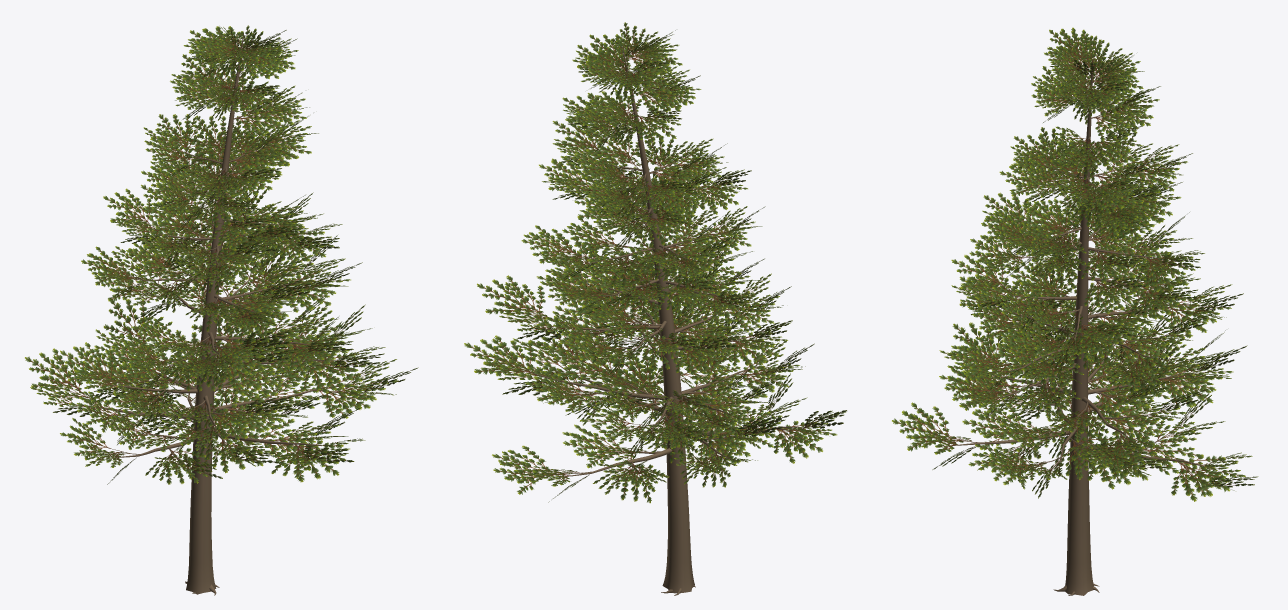
Rendered from corealm_pine_2.glb.
3 views of the same model, side by side, from view 1: azimuth 30°, elevation 25°; view 2: azimuth 150°, elevation 25°; view 3: azimuth 270°, elevation 25° (orthographic). The views are drawn at different scales.
Visible parts, largest first — view 1: corealm_pine_2; view 2: corealm_pine_2; view 3: corealm_pine_2.
Part boxes in pixels (x1=…): corealm_pine_2: x1=25, y1=25, x2=418, y2=595; corealm_pine_2: x1=464, y1=22, x2=846, y2=595; corealm_pine_2: x1=892, y1=27, x2=1258, y2=595.
Size of the model in its own units: 6.38 by 9.73 by 5.89.
Materials: 2 (1 with a texture image).
